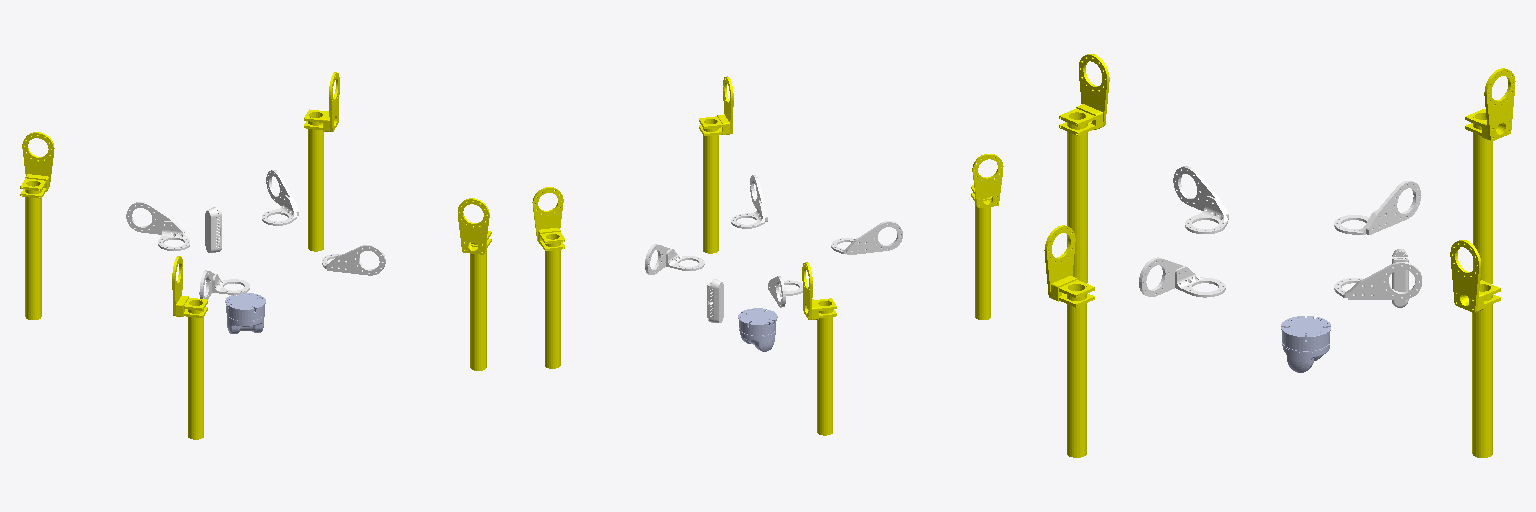
URDF robot description (sipder_robot):
<?xml version="1.0" encoding="utf-8"?>
<!-- This URDF was automatically created by SolidWorks to URDF Exporter! Originally created by [author] ([email redacted]) 
     Commit Version: 1.6.0-4-g7f85cfe  Build Version: 1.6.7995.38578
     For more information, please see http://wiki.ros.org/sw_urdf_exporter -->
<robot name="sipder_robot">
  <link name="dummy">
    <visual>
      <origin rpy="0 0 0" xyz="0 0 0"/>
      <geometry>
        <box size="0.001 0.001 0.001"/>
      </geometry>
    </visual>
  </link>

  <joint name="dummy_joint" type="fixed">
    <origin rpy="0 0 0" xyz="0 0 0"/>
    <parent link="dummy"/>
    <child link="base_link"/>
  </joint>

  <link name="base_link">
    <inertial>
      <origin xyz="9.5983E-05 -0.0053069 0.074681" rpy="0 0 0" />
      <mass value="2.8003" />
      <inertia ixx="0.0051964" ixy="1.4763E-06" ixz="-1.4439E-06" iyy="0.0055771" iyz="2.0006E-07" izz="0.010212" />
    </inertial>
    <visual>
      <origin xyz="0 0 0" rpy="0 0 0" />
      <geometry>
        <mesh filename="package://sipder_robot/meshes/spibot/base_link.STL" />
      </geometry>
      <material name="">
        <color rgba="0 0 0 1" />
      </material>
    </visual>
    <collision>
      <origin xyz="0 0 0" rpy="0 0 0" />
      <geometry>
        <mesh filename="package://sipder_robot/meshes/spibot/base_link.STL" />
      </geometry>
    </collision>
  </link>

  <link name="hip1">
    <inertial>
      <origin xyz="0.030542 -0.027829 0.01669" rpy="0 0 0" />
      <mass value="0.030452" />
      <inertia ixx="1.0281E-05" ixy="9.4587E-07" ixz="-3.6642E-06" iyy="2.4586E-05" iyz="7.6559E-07" izz="2.3255E-05" />
    </inertial>
    <visual>
      <origin xyz="0 0 0" rpy="0 0 0" />
      <geometry>
        <mesh filename="package://sipder_robot/meshes/spibot/hip1.STL" />
      </geometry>
      <material name="">
        <color rgba="1 1 1 1" />
      </material>
    </visual>
    <collision>
      <origin xyz="0 0 0" rpy="0 0 0" />
      <geometry>
        <mesh filename="package://sipder_robot/meshes/spibot/hip1.STL" />
      </geometry>
    </collision>
  </link>
  <joint name="base2hip1" type="revolute">
    <origin xyz="0.11 -0.11 0.112" rpy="0 0 -0.7854" />
    <parent link="base_link" />
    <child link="hip1" />
    <axis xyz="0 0 1" />
    <limit lower="-1.57" upper="1.57" effort="500" velocity="40" />
    <dynamics damping="0.0" friction="0.0"/>
  </joint>
  <link name="thigh1">
    <inertial>
      <origin xyz="0.11489 9.5371E-05 -0.0056875" rpy="0 0 0" />
      <mass value="0.60857" />
      <inertia ixx="0.0002871" ixy="-1.1416E-07" ixz="-4.4479E-08" iyy="0.0013103" iyz="8.1337E-08" izz="0.0015428" />
    </inertial>
    <visual>
      <origin xyz="0 0 0" rpy="0 0 0" />
      <geometry>
        <mesh filename="package://sipder_robot/meshes/spibot/thigh1.STL" />
      </geometry>
      <material name="">
        <color rgba="0 0 1 1" />
      </material>
    </visual>
    <collision>
      <origin xyz="0 0 0" rpy="0 0 0" />
      <geometry>
        <mesh filename="package://sipder_robot/meshes/spibot/thigh1.STL" />
      </geometry>
    </collision>
  </link>
  <joint name="hip2thigh1" type="revolute">
    <origin xyz="0.07 -0.0015 0.03" rpy="-1.5708 -0.53703 0" />
    <parent link="hip1" />
    <child link="thigh1" />
    <axis xyz="0 0 1" />
    <limit lower="-3.14" upper="3.14" effort="500" velocity="40" />
  </joint>
  <link name="shank1">
    <inertial>
      <origin xyz="0.13117 2.9976E-15 -0.010092" rpy="0 0 0" />
      <mass value="0.081935" />
      <inertia ixx="1.8823E-05" ixy="1.1047E-19" ixz="1.433E-19" iyy="0.00031144" iyz="-2.3039E-19" izz="0.00031833" />
    </inertial>
    <visual>
      <origin xyz="0 0 0" rpy="0 0 0" />
      <geometry>
        <mesh filename="package://sipder_robot/meshes/spibot/shank1.STL" />
      </geometry>
      <material name="">
        <color rgba="1 1 0 1" />
      </material>
    </visual>
    <collision>
      <origin xyz="0 0 0" rpy="0 0 0" />
      <geometry>
        <mesh filename="package://sipder_robot/meshes/spibot/shank1.STL" />
      </geometry>
    </collision>
  </link>
  <joint name="thigh2shank1" type="revolute">
    <origin xyz="0.23 0 0" rpy="0 0 2.1078" />
    <parent link="thigh1" />
    <child link="shank1" />
    <axis xyz="0 0 1" />
    <limit lower="-3.14" upper="3.14" effort="500" velocity="40" />
  </joint>
  <link name="foot1">
    <inertial>
      <origin xyz="-5.0263E-06 -3.7565E-06 0.0058146" rpy="0 0 0" />
      <mass value="0.15496" />
      <inertia ixx="0.00010348" ixy="4.8068E-09" ixz="-6.6695E-10" iyy="0.00010349" iyz="8.8051E-10" izz="0.00016262" />
    </inertial>
    <visual>
      <origin xyz="0 0 0" rpy="0 0 0" />
      <geometry>
        <mesh filename="package://sipder_robot/meshes/spibot/foot1.STL" />
      </geometry>
      <material name="">
        <color rgba="0 1 1 1" />
      </material>
    </visual>
    <collision>
      <origin xyz="0 0 0" rpy="0 0 0" />
      <geometry>
        <mesh filename="package://sipder_robot/meshes/spibot/foot1.STL" />
      </geometry>
    </collision>
  </link>
  <joint name="shank2foot1" type="revolute">
    <origin xyz="0.36572 0 0.00075" rpy="-1.5818 -1.5708 -1.5598" />
    <parent link="shank1" />
    <child link="foot1" />
    <axis xyz="0 0 -1" />
  </joint>
  <link name="hip2">
    <inertial>
      <origin xyz="0.0019183 -0.041274 0.01669" rpy="0 0 0" />
      <mass value="0.030452" />
      <inertia ixx="1.8379E-05" ixy="7.1528E-06" ixz="-2.0496E-06" iyy="1.6488E-05" iyz="3.1323E-06" izz="2.3255E-05" />
    </inertial>
    <visual>
      <origin xyz="0 0 0" rpy="0 0 0" />
      <geometry>
        <mesh filename="package://sipder_robot/meshes/spibot/hip2.STL" />
      </geometry>
      <material name="">
        <color rgba="1 1 1 1" />
      </material>
    </visual>
    <collision>
      <origin xyz="0 0 0" rpy="0 0 0" />
      <geometry>
        <mesh filename="package://sipder_robot/meshes/spibot/hip2.STL" />
      </geometry>
    </collision>
  </link>
  <joint name="base2hip2" type="revolute">
    <origin xyz="0.11 0.11 0.112" rpy="0 0 1.5708" />
    <parent link="base_link" />
    <child link="hip2" />
    <axis xyz="0 0 -1" />
    <limit lower="-1.57" upper="1.57" effort="500" velocity="40" />
  </joint>
  <link name="thigh2">
    <inertial>
      <origin xyz="0.11489 9.5371E-05 -0.0056875" rpy="0 0 0" />
      <mass value="0.60857" />
      <inertia ixx="0.0002871" ixy="-1.1416E-07" ixz="-4.4479E-08" iyy="0.0013103" iyz="8.1337E-08" izz="0.0015428" />
    </inertial>
    <visual>
      <origin xyz="0 0 0" rpy="0 0 0" />
      <geometry>
        <mesh filename="package://sipder_robot/meshes/spibot/thigh2.STL" />
      </geometry>
      <material name="">
        <color rgba="0 0 1 1" />
      </material>
    </visual>
    <collision>
      <origin xyz="0 0 0" rpy="0 0 0" />
      <geometry>
        <mesh filename="package://sipder_robot/meshes/spibot/thigh2.STL" />
      </geometry>
    </collision>
  </link>
  <joint name="hip2thigh2" type="revolute">
    <origin xyz="0.048437 -0.050558 0.03" rpy="-1.5708 -0.53703 -0.7854" />
    <parent link="hip2" />
    <child link="thigh2" />
    <axis xyz="0 0 -1" />
    <limit lower="-3.14" upper="3.14" effort="500" velocity="40" />
  </joint>
  <link name="shank2">
    <inertial>
      <origin xyz="0.13117 -1.1102E-16 -0.010092" rpy="0 0 0" />
      <mass value="0.081935" />
      <inertia ixx="1.8823E-05" ixy="1.1765E-19" ixz="1.4556E-19" iyy="0.00031144" iyz="-2.3039E-19" izz="0.00031833" />
    </inertial>
    <visual>
      <origin xyz="0 0 0" rpy="0 0 0" />
      <geometry>
        <mesh filename="package://sipder_robot/meshes/spibot/shank2.STL" />
      </geometry>
      <material name="">
        <color rgba="1 1 0 1" />
      </material>
    </visual>
    <collision>
      <origin xyz="0 0 0" rpy="0 0 0" />
      <geometry>
        <mesh filename="package://sipder_robot/meshes/spibot/shank2.STL" />
      </geometry>
    </collision>
  </link>
  <joint name="thigh2shank2" type="revolute">
    <origin xyz="0.23 0 0" rpy="0 0 2.1078" />
    <parent link="thigh2" />
    <child link="shank2" />
    <axis xyz="0 0 1" />
    <limit lower="-3.14" upper="3.14" effort="500" velocity="40" />
  </joint>
  <link name="foot2">
    <inertial>
      <origin xyz="-6.261E-06 -7.1023E-07 0.0058163" rpy="0 0 0" />
      <mass value="0.15495" />
      <inertia ixx="0.00010349" ixy="6.309E-09" ixz="-1.5247E-10" iyy="0.00010349" iyz="1.118E-09" izz="0.00016262" />
    </inertial>
    <visual>
      <origin xyz="0 0 0" rpy="0 0 0" />
      <geometry>
        <mesh filename="package://sipder_robot/meshes/spibot/foot2.STL" />
      </geometry>
      <material name="">
        <color rgba="0 1 1 1" />
      </material>
    </visual>
    <collision>
      <origin xyz="0 0 0" rpy="0 0 0" />
      <geometry>
        <mesh filename="package://sipder_robot/meshes/spibot/foot2.STL" />
      </geometry>
    </collision>
  </link>
  <joint name="shank2foot2" type="revolute">
    <origin xyz="0.36572 0 0.00075" rpy="-1.5718 -1.5708 -1.5698" />
    <parent link="shank2" />
    <child link="foot2" />
    <axis xyz="0 0 -1" />
  </joint>
  <link name="hip3">
    <inertial>
      <origin xyz="0.0305418203173762 -0.0278289406897 0.016689897603681" rpy="0 0 0" />
      <mass value="0.030451957754817" />
      <inertia ixx="1.02807543656808E-05" ixy="9.45871271693215E-07" ixz="-3.66419156962914E-06" iyy="2.45863839494372E-05" iyz="7.65590783313748E-07" izz="2.32546439357208E-05" />
    </inertial>
    <visual>
      <origin xyz="0 0 0" rpy="0 0 0" />
      <geometry>
        <mesh filename="package://sipder_robot/meshes/spibot/hip3.STL" />
      </geometry>
      <material name="">
        <color rgba="1 1 1 1" />
      </material>
    </visual>
    <collision>
      <origin xyz="0 0 0" rpy="0 0 0" />
      <geometry>
        <mesh filename="package://sipder_robot/meshes/spibot/hip3.STL" />
      </geometry>
    </collision>
  </link>
  <joint name="base2hip3" type="revolute">
    <origin xyz="-0.11 0.11 0.112" rpy="0 0 2.3562" />
    <parent link="base_link" />
    <child link="hip3" />
    <axis xyz="0 0 1" />
    <limit lower="-1.57" upper="1.57" effort="500" velocity="40" />
  </joint>
  <link name="thigh3">
    <inertial>
      <origin xyz="0.11489 9.5371E-05 -0.0056875" rpy="0 0 0" />
      <mass value="0.60857" />
      <inertia ixx="0.0002871" ixy="-1.1416E-07" ixz="-4.4479E-08" iyy="0.0013103" iyz="8.1337E-08" izz="0.0015428" />
    </inertial>
    <visual>
      <origin xyz="0 0 0" rpy="0 0 0" />
      <geometry>
        <mesh filename="package://sipder_robot/meshes/spibot/thigh3.STL" />
      </geometry>
      <material name="">
        <color rgba="0 0 1 1" />
      </material>
    </visual>
    <collision>
      <origin xyz="0 0 0" rpy="0 0 0" />
      <geometry>
        <mesh filename="package://sipder_robot/meshes/spibot/thigh3.STL" />
      </geometry>
    </collision>
  </link>
  <joint name="hip2thigh3" type="revolute">
    <origin xyz="0.07 -0.0015 0.03" rpy="-1.5708 -0.53703 0" />
    <parent link="hip3" />
    <child link="thigh3" />
    <axis xyz="0 0 -1" />
    <limit lower="-3.14" upper="3.14" effort="500" velocity="40" />
  </joint>
  <link name="shank3">
    <inertial>
      <origin xyz="0.13117 -4.7184E-15 -0.010092" rpy="0 0 0" />
      <mass value="0.081935" />
      <inertia ixx="1.8823E-05" ixy="1.4305E-19" ixz="8.5825E-20" iyy="0.00031144" iyz="-2.7105E-20" izz="0.00031833" />
    </inertial>
    <visual>
      <origin xyz="0 0 0" rpy="0 0 0" />
      <geometry>
        <mesh filename="package://sipder_robot/meshes/spibot/shank3.STL" />
      </geometry>
      <material name="">
        <color rgba="1 1 0 1" />
      </material>
    </visual>
    <collision>
      <origin xyz="0 0 0" rpy="0 0 0" />
      <geometry>
        <mesh filename="package://sipder_robot/meshes/spibot/shank3.STL" />
      </geometry>
    </collision>
  </link>
  <joint name="thigh2shank3" type="revolute">
    <origin xyz="0.23 0 0" rpy="0 0 2.1078" />
    <parent link="thigh3" />
    <child link="shank3" />
    <axis xyz="0 0 -1" />
    <limit lower="-3.14" upper="3.14" effort="500" velocity="40" />
  </joint>
  <link name="foot3">
    <inertial>
      <origin xyz="-2.0374E-06 -5.9535E-06 0.0058152" rpy="0 0 0" />
      <mass value="0.15496" />
      <inertia ixx="0.00010348" ixy="-2.4176E-09" ixz="-1.0478E-09" iyy="0.00010349" iyz="3.5161E-10" izz="0.00016262" />
    </inertial>
    <visual>
      <origin xyz="0 0 0" rpy="0 0 0" />
      <geometry>
        <mesh filename="package://sipder_robot/meshes/spibot/foot3.STL" />
      </geometry>
      <material name="">
        <color rgba="0 1 1 1" />
      </material>
    </visual>
    <collision>
      <origin xyz="0 0 0" rpy="0 0 0" />
      <geometry>
        <mesh filename="package://sipder_robot/meshes/spibot/foot3.STL" />
      </geometry>
    </collision>
  </link>
  <joint name="shank2foot3" type="fixed">
    <origin xyz="0.36572 0 0.00075" rpy="0 1.5708 0" />
    <parent link="shank3" />
    <child link="foot3" />
    <axis xyz="0 0 -1" />
  </joint>
  <link name="hip4">
    <inertial>
      <origin xyz="0.0305418203173761 -0.0278289406982714 0.0166898975893889" rpy="0 0 0" />
      <mass value="0.0304519577548169" />
      <inertia ixx="1.02807543656808E-05" ixy="9.45871273575032E-07" ixz="-3.66419156914335E-06" iyy="2.45863839486507E-05" iyz="7.65590783997688E-07" izz="2.3254643936507E-05" />
    </inertial>
    <visual>
      <origin xyz="0 0 0" rpy="0 0 0" />
      <geometry>
        <mesh filename="package://sipder_robot/meshes/spibot/hip4.STL" />
      </geometry>
      <material name="">
        <color rgba="1 1 1 1" />
      </material>
    </visual>
    <collision>
      <origin xyz="0 0 0" rpy="0 0 0" />
      <geometry>
        <mesh filename="package://sipder_robot/meshes/spibot/hip4.STL" />
      </geometry>
    </collision>
  </link>
  <joint name="base2hip4" type="revolute">
    <origin xyz="-0.11 -0.11 0.112" rpy="0 0 -2.3562" />
    <parent link="base_link" />
    <child link="hip4" />
    <axis xyz="0 0 -1" />
    <limit lower="-1.57" upper="1.57" effort="500" velocity="40" />
  </joint>
  <link name="thigh4">
    <inertial>
      <origin xyz="0.11511 -9.5371E-05 -0.0056875" rpy="0 0 0" />
      <mass value="0.60857" />
      <inertia ixx="0.0002871" ixy="-1.1416E-07" ixz="4.4479E-08" iyy="0.0013103" iyz="-8.1337E-08" izz="0.0015428" />
    </inertial>
    <visual>
      <origin xyz="0 0 0" rpy="0 0 0" />
      <geometry>
        <mesh filename="package://sipder_robot/meshes/spibot/thigh4.STL" />
      </geometry>
      <material name="">
        <color rgba="0 0 1 1" />
      </material>
    </visual>
    <collision>
      <origin xyz="0 0 0" rpy="0 0 0" />
      <geometry>
        <mesh filename="package://sipder_robot/meshes/spibot/thigh4.STL" />
      </geometry>
    </collision>
  </link>
  <joint name="hip2thigh4" type="revolute">
    <origin xyz="0.07 -0.0015 0.03" rpy="-1.5708 -0.53703 0" />
    <parent link="hip4" />
    <child link="thigh4" />
    <axis xyz="0 0 -1" />
    <limit lower="-3.14" upper="3.14" effort="500" velocity="40" />
  </joint>
  <link name="shank4">
    <inertial>
      <origin xyz="0.13117 6.3838E-15 -0.010092" rpy="0 0 0" />
      <mass value="0.081935" />
      <inertia ixx="1.8823E-05" ixy="-1.0405E-19" ixz="-1.52E-19" iyy="0.00031144" iyz="-8.1315E-20" izz="0.00031833" />
    </inertial>
    <visual>
      <origin xyz="0 0 0" rpy="0 0 0" />
      <geometry>
        <mesh filename="package://sipder_robot/meshes/spibot/shank4.STL" />
      </geometry>
      <material name="">
        <color rgba="1 1 0 1" />
      </material>
    </visual>
    <collision>
      <origin xyz="0 0 0" rpy="0 0 0" />
      <geometry>
        <mesh filename="package://sipder_robot/meshes/spibot/shank4.STL" />
      </geometry>
    </collision>
  </link>
  <joint name="thigh2shank4" type="revolute">
    <origin xyz="0.23 0 0" rpy="0 0 2.1078" />
    <parent link="thigh4" />
    <child link="shank4" />
    <axis xyz="0 0 -1" />
    <limit lower="-3.14" upper="3.14" effort="500" velocity="40" />
  </joint>
  <link name="foot4">
    <inertial>
      <origin xyz="-2.342E-06 -5.8217E-06 0.0058146" rpy="0 0 0" />
      <mass value="0.15496" />
      <inertia ixx="0.00010348" ixy="-1.8468E-09" ixz="-1.0274E-09" iyy="0.0001035" iyz="4.0565E-10" izz="0.00016262" />
    </inertial>
    <visual>
      <origin xyz="0 0 0" rpy="0 0 0" />
      <geometry>
        <mesh filename="package://sipder_robot/meshes/spibot/foot4.STL" />
      </geometry>
      <material name="">
        <color rgba="0 1 1 1" />
      </material>
    </visual>
    <collision>
      <origin xyz="0 0 0" rpy="0 0 0" />
      <geometry>
        <mesh filename="package://sipder_robot/meshes/spibot/foot4.STL" />
      </geometry>
    </collision>
  </link>
  <joint name="shank2foot4" type="revolute">
    <origin xyz="0.36572 0 0.00075" rpy="0 1.5708 0" />
    <parent link="shank4" />
    <child link="foot4" />
    <axis xyz="0 0 -1" />
  </joint>
  <link name="camera">
    <inertial>
      <origin xyz="0 0 0" rpy="0 0 0" />
      <mass value="0" />
      <inertia ixx="0" ixy="0" ixz="0" iyy="0" iyz="0" izz="0" />
    </inertial>
    <visual>
      <origin xyz="0 0 0" rpy="0 0 0" />
      <geometry>
        <mesh filename="package://sipder_robot/meshes/spibot/camera.STL" />
      </geometry>
      <material name="">
        <color rgba="1 1 1 1" />
      </material>
    </visual>
    <collision>
      <origin xyz="0 0 0" rpy="0 0 0" />
      <geometry>
        <mesh filename="package://sipder_robot/meshes/spibot/camera.STL" />
      </geometry>
    </collision>
  </link>
  <joint name="base2camera" type="fixed">
    <origin xyz="0.00063297 0.17702 0.084" rpy="-1.5708 0 3.1416" />
    <parent link="base_link" />
    <child link="camera" />
    <axis xyz="0 0 0" />
  </joint>
  <link name="lidar">
    <inertial>
      <origin xyz="-6.179E-05 -2.4592E-05 0.031978" rpy="0 0 0" />
      <mass value="0.1152" />
      <inertia ixx="3.8374E-05" ixy="-5.0651E-06" ixz="5.6483E-08" iyy="4.8506E-05" iyz="2.5161E-08" izz="6.975E-05" />
    </inertial>
    <visual>
      <origin xyz="0 0 0" rpy="0 0 0" />
      <geometry>
        <mesh filename="package://sipder_robot/meshes/spibot/lidar.STL" />
      </geometry>
      <material name="">
        <color rgba="0.79216 0.81961 0.93333 1" />
      </material>
    </visual>
    <collision>
      <origin xyz="0 0 0" rpy="0 0 0" />
      <geometry>
        <mesh filename="package://sipder_robot/meshes/spibot/lidar.STL" />
      </geometry>
    </collision>
  </link>
  <joint name="base2lidar" type="fixed">
    <origin xyz="8.7201E-05 0.038511 -0.000556" rpy="-3.1416 0 3.1416" />
    <parent link="base_link" />
    <child link="lidar" />
    <axis xyz="0 0 0" />
  </joint>
  <gazebo reference="base_link">
    <material>Gazebo/White</material>
  </gazebo>
  <gazebo reference="camera">
    <material>Gazebo/DarkGrey</material>
  </gazebo>
  <gazebo reference="lidar">
    <material>Gazebo/Indigo</material>
  </gazebo>
  <gazebo reference="hip1">
    <material>Gazebo/RedBright</material>
  </gazebo>
  <gazebo reference="hip2">
    <material>Gazebo/RedBright</material>
  </gazebo>
  <gazebo reference="hip3">
    <material>Gazebo/RedBright</material>
  </gazebo>
  <gazebo reference="hip4">
    <material>Gazebo/RedBright</material>
  </gazebo>
  <gazebo reference="thigh1">
    <material>Gazebo/Green</material>
  </gazebo>
  <gazebo reference="thigh2">
    <material>Gazebo/Green</material>
  </gazebo>
  <gazebo reference="thigh3">
    <material>Gazebo/Green</material>
  </gazebo>
  <gazebo reference="thigh4">
    <material>Gazebo/Green</material>
  </gazebo>
  <gazebo reference="shank1">
    <material>Gazebo/Turquoise</material>
  </gazebo>
  <gazebo reference="shank2">
    <material>Gazebo/Turquoise</material>
  </gazebo>
  <gazebo reference="shank3">
    <material>Gazebo/Turquoise</material>
  </gazebo>
  <gazebo reference="shank4">
    <material>Gazebo/Turquoise</material>
  </gazebo>
  <gazebo reference="foot1">
    <material>Gazebo/SkyBlue</material>
  </gazebo>
  <gazebo reference="foot2">
    <material>Gazebo/SkyBlue</material>
  </gazebo>
  <gazebo reference="foot3">
    <material>Gazebo/SkyBlue</material>    <!--反转,-1.57->1.57-->
  </gazebo>
  <gazebo reference="foot4">
    <material>Gazebo/SkyBlue</material>    <!--反转,-1.57->1.57-->
  </gazebo>
</robot>

--- Facts derived from the render (not from the file) ---
3 views of the same robot in one strip: view 1: azimuth 30°, elevation 25°; view 2: azimuth 150°, elevation 25°; view 3: azimuth 270°, elevation 25° (orthographic).
Robot: sipder_robot — 20 links, 19 joints (15 revolute, 4 fixed); root link dummy; default pose: every joint at zero.
Links seen in each view (by area): view 1: shank3, shank1, shank4, shank2, lidar, hip3, hip1, hip2, hip4, camera; view 2: shank2, shank4, shank1, shank3, lidar, hip4, hip2, hip1, camera, hip3; view 3: shank1, shank2, shank4, shank3, lidar, hip2, hip4, hip1, hip3, camera.
Link boxes in pixels (x1,y1,x2,y2): shank3: (20,132,54,319); shank1: (458,198,491,370); shank4: (172,256,207,439); shank2: (304,72,339,251); lidar: (225,293,265,333); hip3: (126,202,189,250); hip1: (322,245,385,275); hip2: (262,170,298,225); hip4: (199,270,249,299); camera: (205,207,221,252); shank2: (532,187,564,368); shank4: (971,154,1003,319); shank1: (699,76,733,253); shank3: (802,262,836,435); lidar: (738,308,777,351); hip4: (831,221,902,254); hip2: (645,244,704,274); hip1: (731,175,767,228); camera: (707,279,723,322); hip3: (768,276,802,307); shank1: (1044,225,1094,457); shank2: (1450,240,1500,457); shank4: (1059,54,1109,283); shank3: (1465,68,1515,283); lidar: (1281,316,1330,372); hip2: (1334,262,1421,299); hip4: (1173,166,1228,233); hip1: (1139,257,1225,297); hip3: (1334,181,1420,234); camera: (1392,249,1408,307).
Size in the robot's own frame: 0.6946 by 0.6946 by 0.3574 metres.
Meshes: 19 distinct files referenced, 10 mesh visuals loaded (10 binary STL); not drawn: 9 (reference not matched to a file when rendering).
